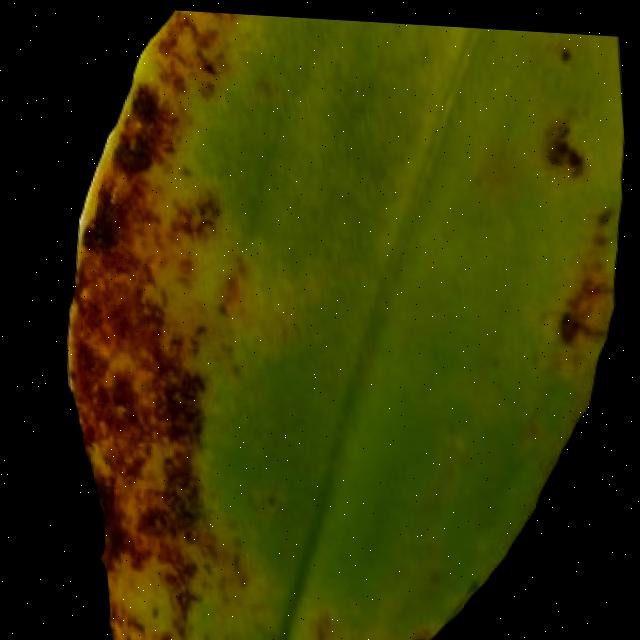mite: (531, 29, 623, 344), (535, 31, 592, 172), (166, 186, 224, 239), (553, 301, 582, 338), (300, 604, 329, 640), (552, 32, 583, 63), (138, 596, 160, 625), (559, 37, 576, 56), (402, 628, 421, 640), (142, 601, 154, 618)
spots: (38, 2, 640, 640)
